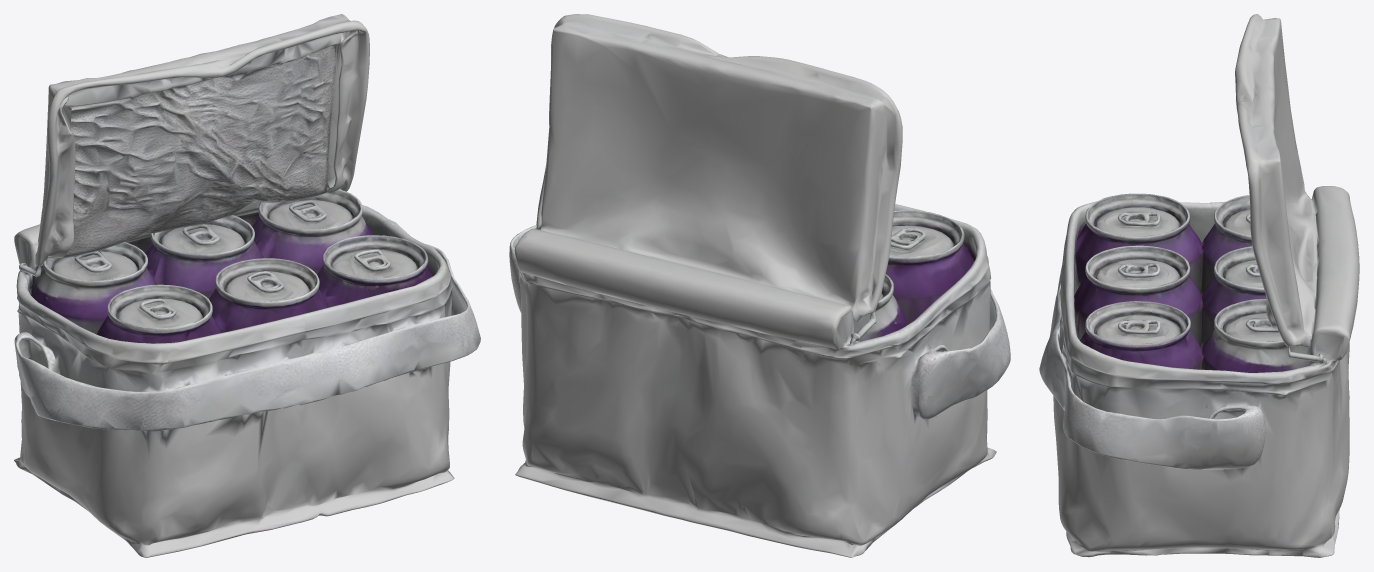
3 views of the same model, side by side, from view 1: azimuth 30°, elevation 25°; view 2: azimuth 150°, elevation 25°; view 3: azimuth 270°, elevation 25° (orthographic). The views are drawn at different scales.
Parts seen in each view (by area): view 1: tripo_node_9ed5c452-694c-4f54-950e-d71395c0ad59; view 2: tripo_node_9ed5c452-694c-4f54-950e-d71395c0ad59; view 3: tripo_node_9ed5c452-694c-4f54-950e-d71395c0ad59.
Boxes of the visible parts, x1=… form: tripo_node_9ed5c452-694c-4f54-950e-d71395c0ad59: x1=14, y1=14, x2=480, y2=557; tripo_node_9ed5c452-694c-4f54-950e-d71395c0ad59: x1=509, y1=14, x2=1010, y2=557; tripo_node_9ed5c452-694c-4f54-950e-d71395c0ad59: x1=1039, y1=14, x2=1359, y2=557.
Bounding box in the file's own units: 0.9997 × 0.905 × 0.6556.
1 material, 1 textured.
